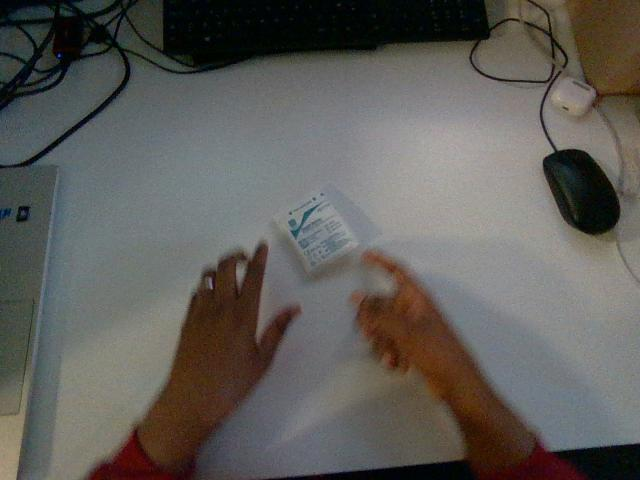gauze: (275, 190, 358, 272)
